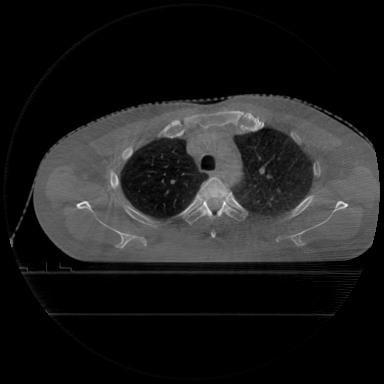body: (33, 94, 380, 262)
cord: (182, 177, 248, 224)
paru kanan: (121, 138, 208, 218)
paru kiri: (232, 128, 314, 213)
